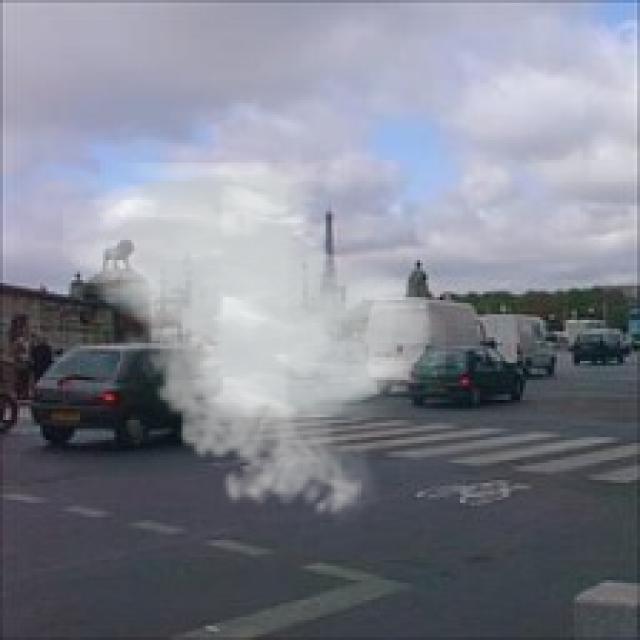smoke: (63, 163, 446, 526)
